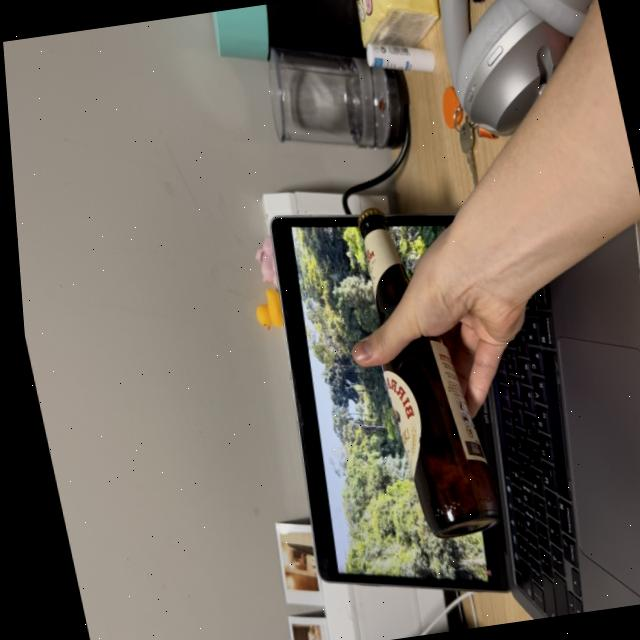beer: (334, 195, 504, 548)
